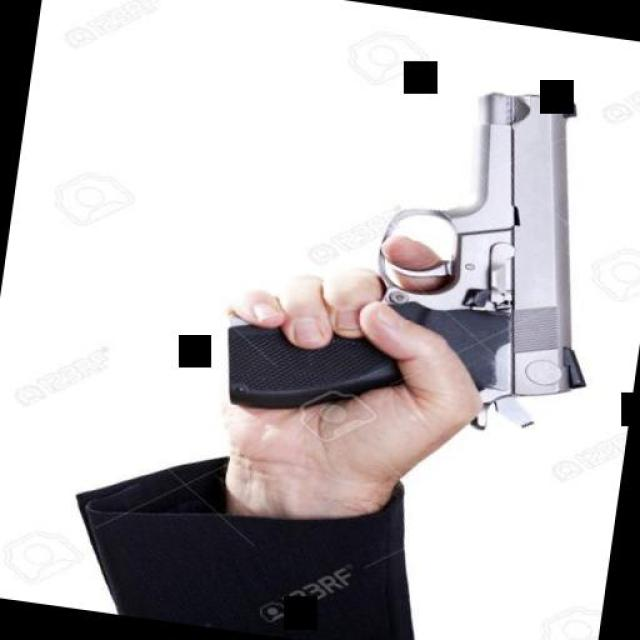gun: (210, 49, 625, 455)
